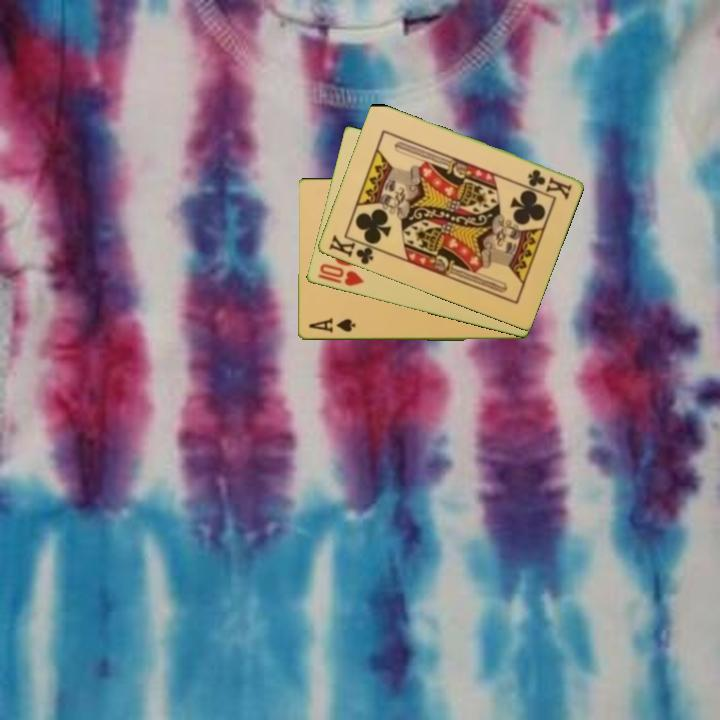10h: (316, 260, 367, 289)
As: (305, 315, 357, 336)
Kc: (325, 231, 382, 268), (523, 166, 574, 201)
